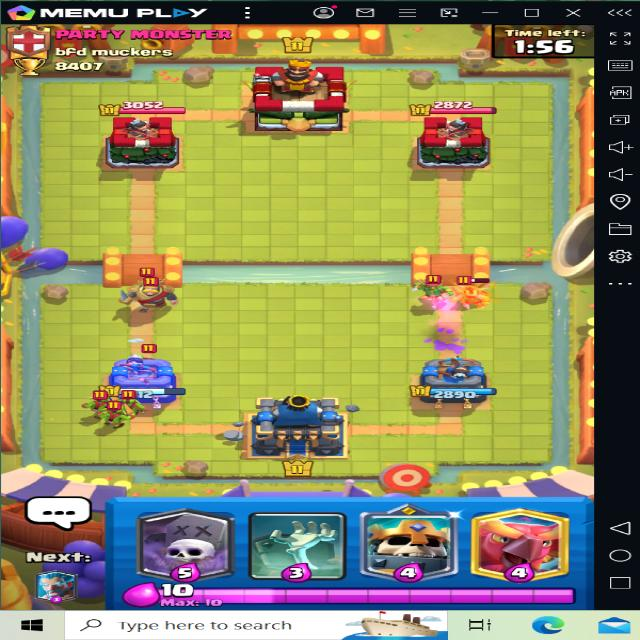Goblin: (96, 405, 140, 438), (120, 394, 156, 418), (84, 388, 110, 416)
Knight: (126, 276, 180, 322)
Speargoblin: (451, 278, 503, 315), (399, 272, 450, 305), (139, 265, 165, 286)
